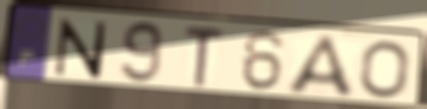6: (239, 29, 288, 94)
9: (116, 21, 166, 87)
A: (283, 33, 360, 101)
N: (51, 17, 111, 81)
O: (359, 39, 411, 101)
T: (181, 24, 228, 90)
